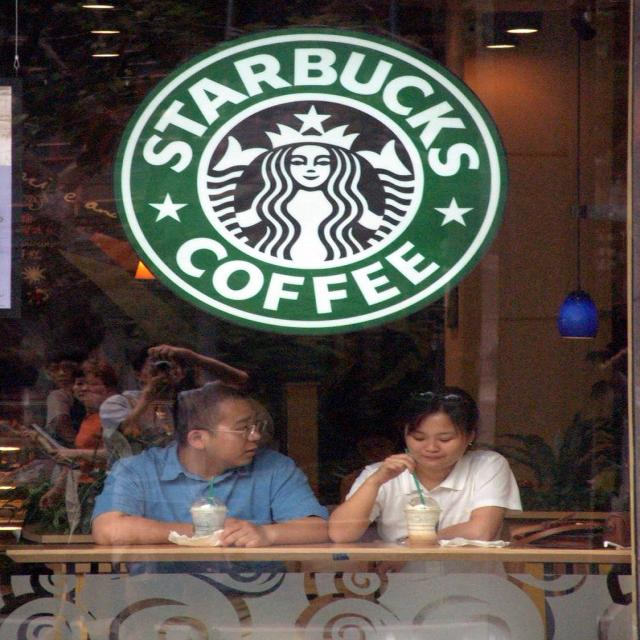starbucks: (111, 27, 511, 332)
